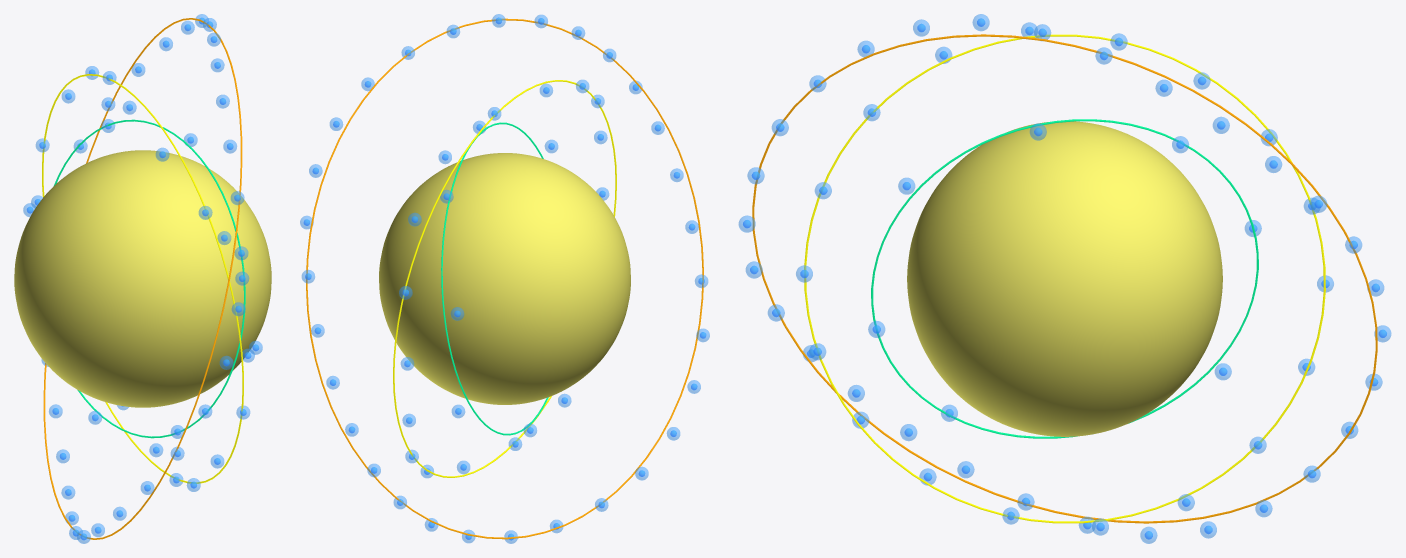
3 renders of one model, left to right at view 1: azimuth 30°, elevation 25°; view 2: azimuth 150°, elevation 25°; view 3: azimuth 270°, elevation 25°, orthographic. The views are drawn at different scales.
Parts seen in each view (by area): view 1: Ce, object 61, object 24, object 7; view 2: Ce, object 61, object 24, object 7; view 3: Ce, object 61, object 24, object 7.
Boxes of the visible parts, left/top/right/bottom form: Ce: left=14, top=150, right=271, bottom=407; object 61: left=43, top=18, right=242, bottom=539; object 24: left=42, top=74, right=243, bottom=483; object 7: left=53, top=119, right=245, bottom=438; Ce: left=379, top=153, right=630, bottom=404; object 61: left=306, top=18, right=703, bottom=539; object 24: left=393, top=80, right=616, bottom=477; object 7: left=441, top=122, right=548, bottom=435; Ce: left=907, top=121, right=1222, bottom=436; object 61: left=752, top=34, right=1377, bottom=523; object 24: left=804, top=34, right=1325, bottom=523; object 7: left=871, top=119, right=1258, bottom=438.
Size of the model in its own units: 3 by 5.93 by 6.03.
